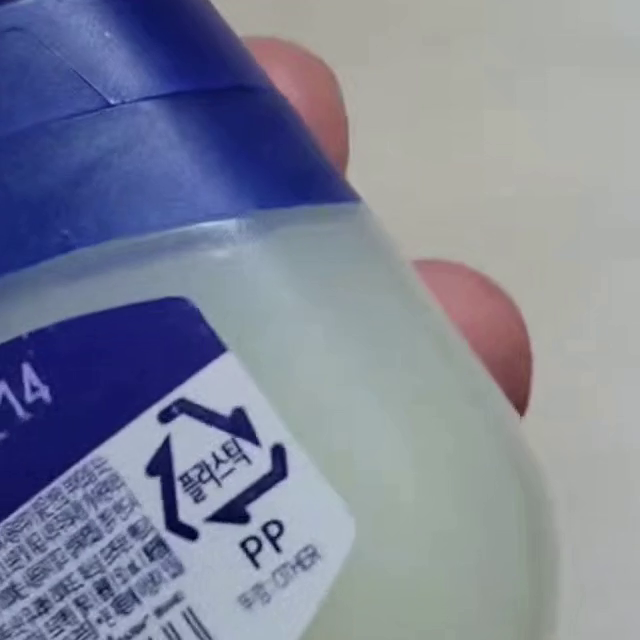Plastic: (145, 397, 288, 543)
